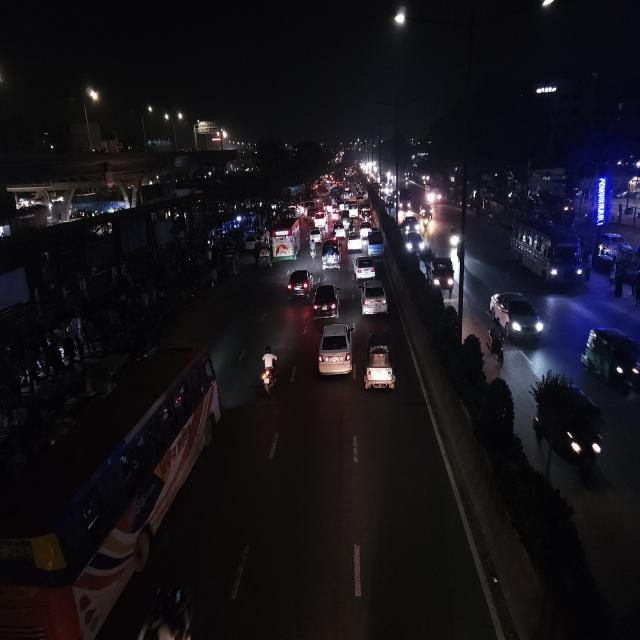bus: (0, 342, 222, 640), (507, 216, 587, 288), (270, 213, 303, 262)
car: (579, 320, 640, 400), (488, 288, 548, 347), (315, 319, 357, 383), (357, 278, 389, 320), (311, 281, 341, 321), (428, 254, 456, 295), (285, 267, 314, 301), (320, 239, 342, 270), (353, 254, 376, 281), (366, 228, 386, 256), (401, 213, 423, 236), (404, 230, 424, 254), (345, 233, 363, 253), (418, 202, 434, 221), (312, 210, 327, 228), (333, 223, 347, 240), (359, 222, 371, 238)
cng: (362, 327, 400, 400), (255, 246, 272, 269)
motorcycle: (256, 344, 280, 400), (486, 317, 506, 366), (447, 224, 461, 248), (307, 239, 317, 260)
pedestrian: (610, 260, 626, 298), (631, 268, 640, 308)
truck: (362, 328, 400, 400)
